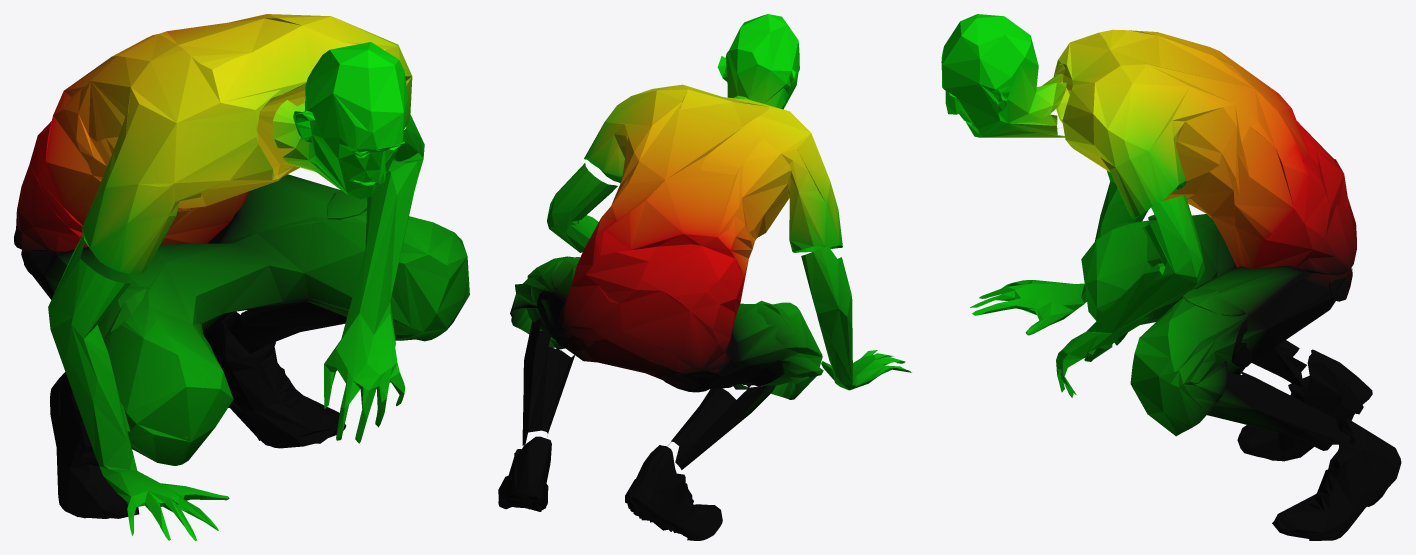
Rendered from Remy_Crouch.glb.
3 renders of one model, left to right at view 1: azimuth 30°, elevation 25°; view 2: azimuth 150°, elevation 25°; view 3: azimuth 270°, elevation 25°, orthographic. The views are drawn at different scales.
Parts seen in each view (by area): view 1: full30; view 2: full30; view 3: full30.
Boxes of the visible parts, box(x1,y1,x2,y2) form: full30: box(14, 14, 469, 540); full30: box(498, 14, 911, 540); full30: box(941, 14, 1401, 540).
Size of the model in its own units: 0.7853 by 0.9723 by 0.8711.
